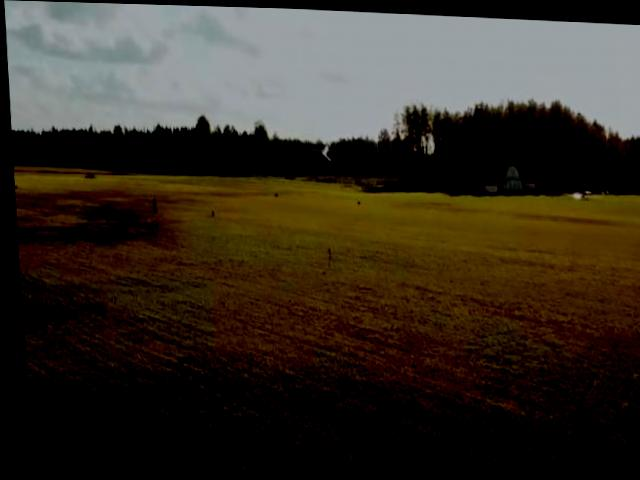iha: (301, 141, 348, 162)
